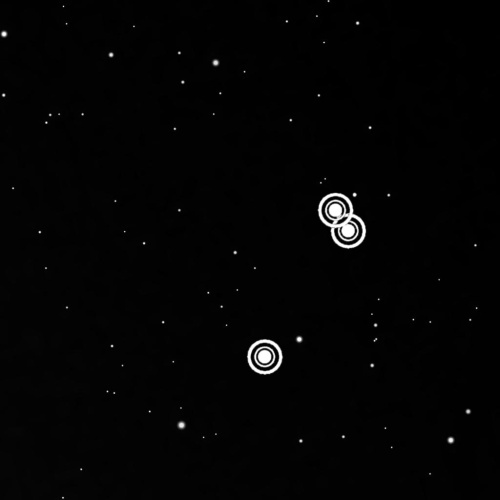canis_minor: (241, 185, 374, 385)
